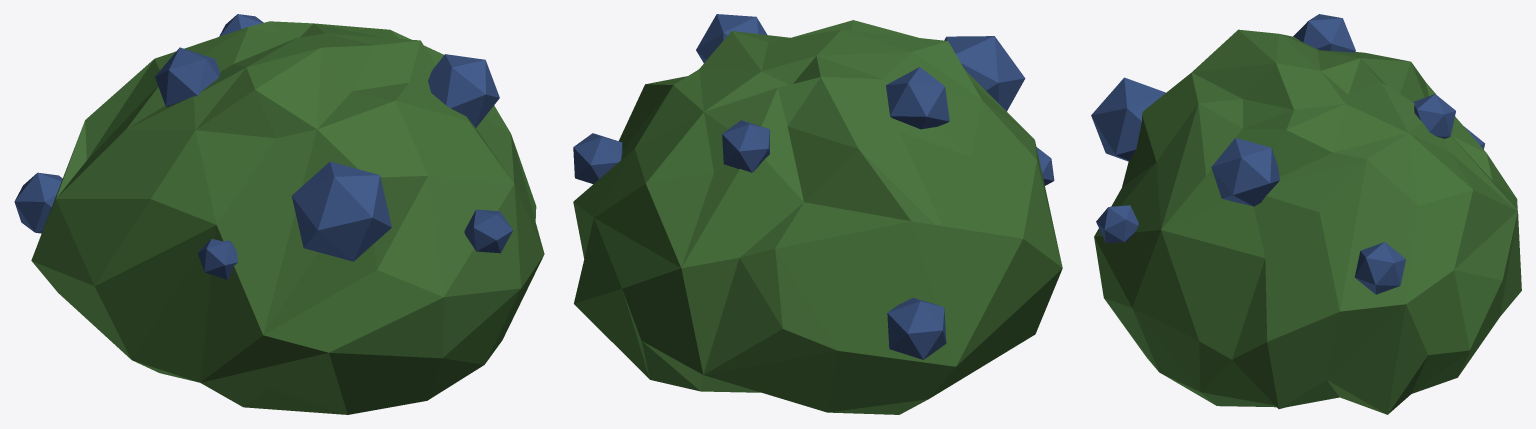
File: bushes3.fbx
3 views of the same model, side by side, from view 1: azimuth 30°, elevation 25°; view 2: azimuth 150°, elevation 25°; view 3: azimuth 270°, elevation 25° (orthographic). The views are drawn at different scales.
Parts seen in each view (by area): view 1: Sphere.002; view 2: Sphere.002; view 3: Sphere.002.
Part boxes in pixels (x1,y1,x2,y2): Sphere.002: (14, 14, 544, 414); Sphere.002: (573, 14, 1062, 414); Sphere.002: (1091, 14, 1521, 414).
Size of the model in its own units: 221 by 162 by 209.
